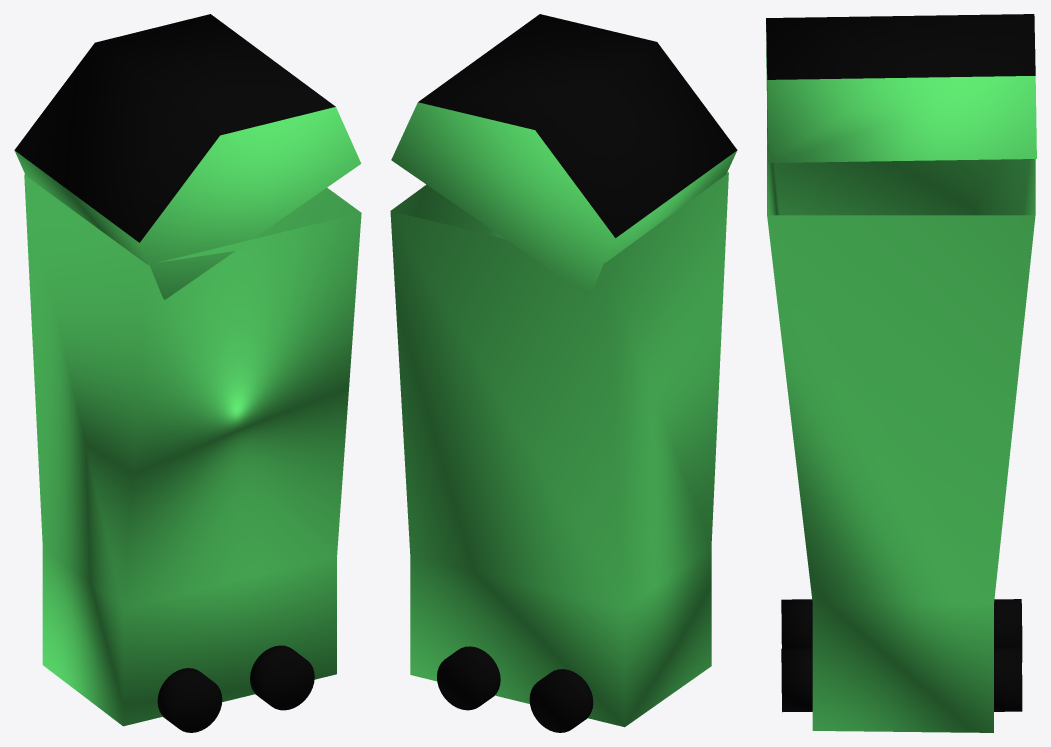
Rendered from Tong sampah.fbx.
The picture shows the model from 3 angles, left to right: view 1: azimuth 30°, elevation 25°; view 2: azimuth 150°, elevation 25°; view 3: azimuth 270°, elevation 25°; orthographic projection. The views are drawn at different scales.
Visible parts, largest first — view 1: Cylinder.002; view 2: Cylinder.002; view 3: Cylinder.002.
Boxes of the visible parts, left/top/right/bottom form: Cylinder.002: left=14, top=14, right=361, bottom=732; Cylinder.002: left=390, top=14, right=737, bottom=732; Cylinder.002: left=766, top=14, right=1036, bottom=732.
Size of the model in its own units: 210 by 537 by 202.
